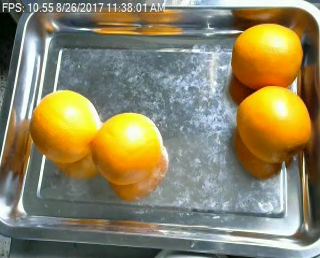Orange: (236, 85, 311, 163), (29, 88, 100, 163), (92, 112, 164, 185), (232, 22, 303, 90)
